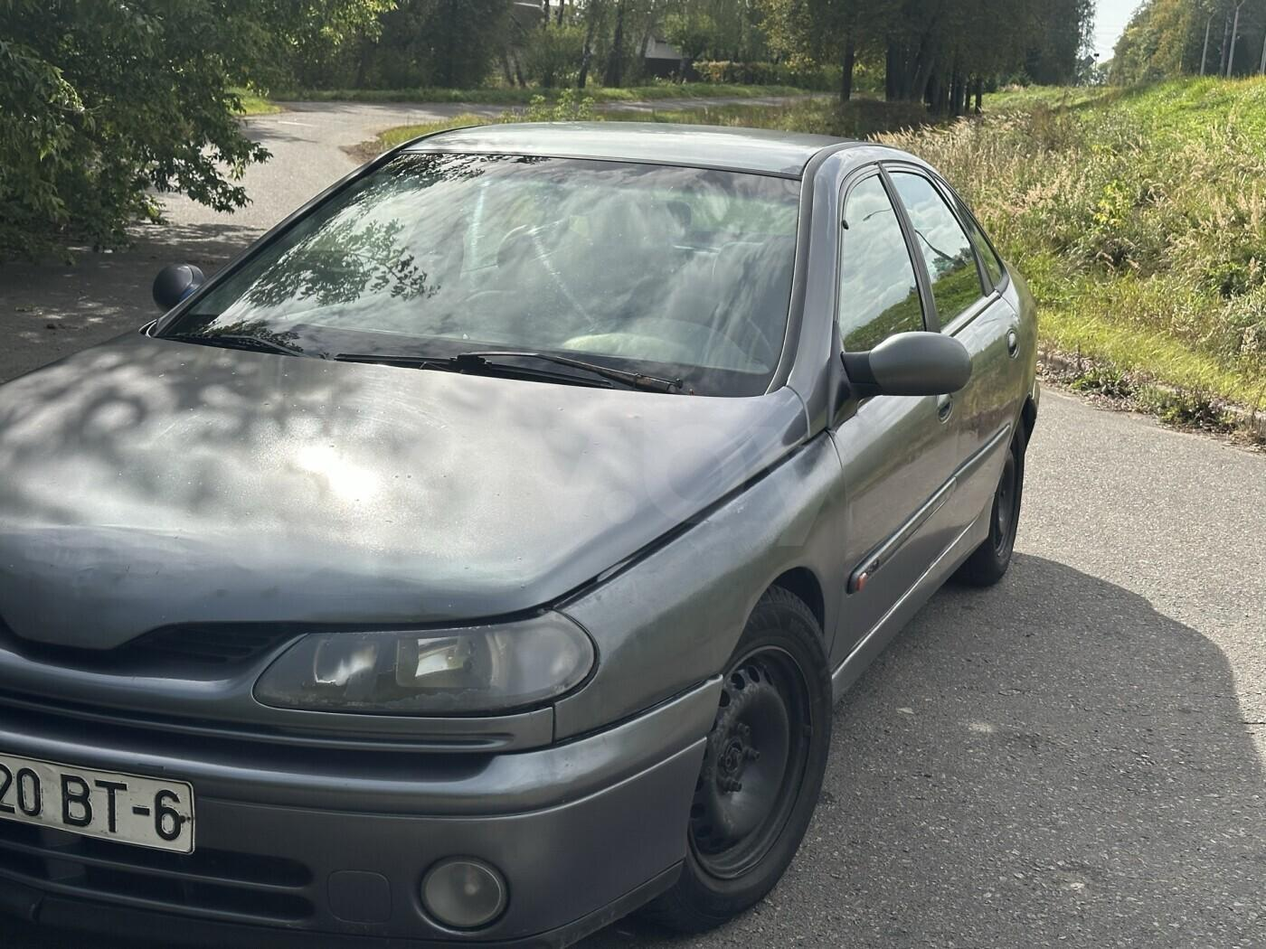Laguna_1998-2001: (0, 108, 1036, 949)
